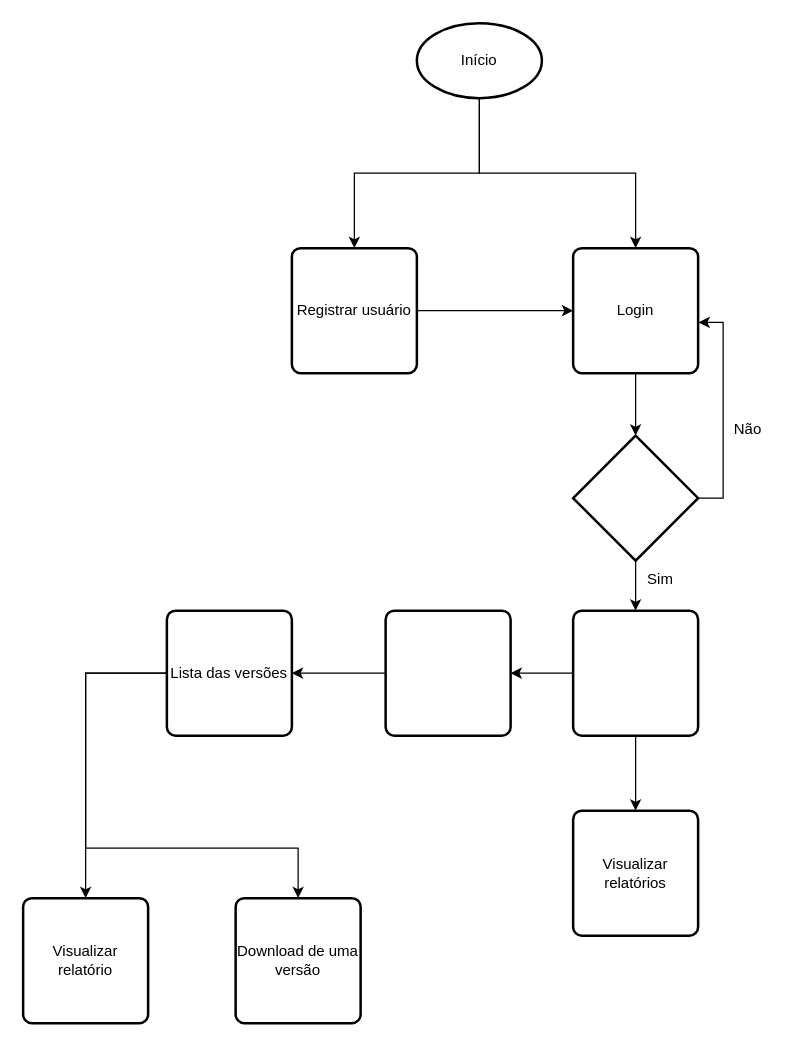
Image size: 806x1045. Some labels were removed from this diagram. Each missing label, with the centre of its shape:
"Acesso á dataset" goes at [447,672].
"Lista de datasets" goes at [635,672].
"Login correto" goes at [635,497].
